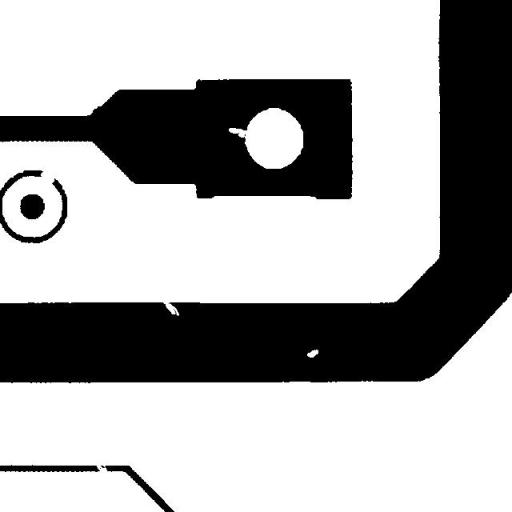mousebite: (154, 291, 186, 323), (221, 120, 254, 145)
open: (32, 164, 62, 190), (88, 454, 115, 482)
pin-hole: (299, 342, 326, 364)
